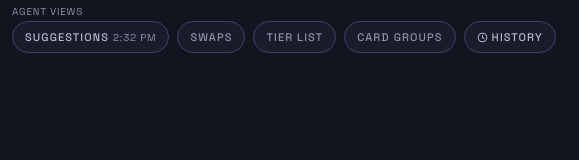
Test case: the popover lists the session’s pushes, newest first › omits the title when the agent supplied none — the fallback is not read out twice
The width and height of the screenshot is (579, 160).
Click the button "History" at (510, 37), box [464,21,556,53]
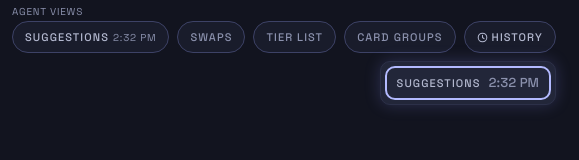
Check: the text with class "agent-views-nav-entry-kind" reads "Suggestions", box [397,76,481,90]
